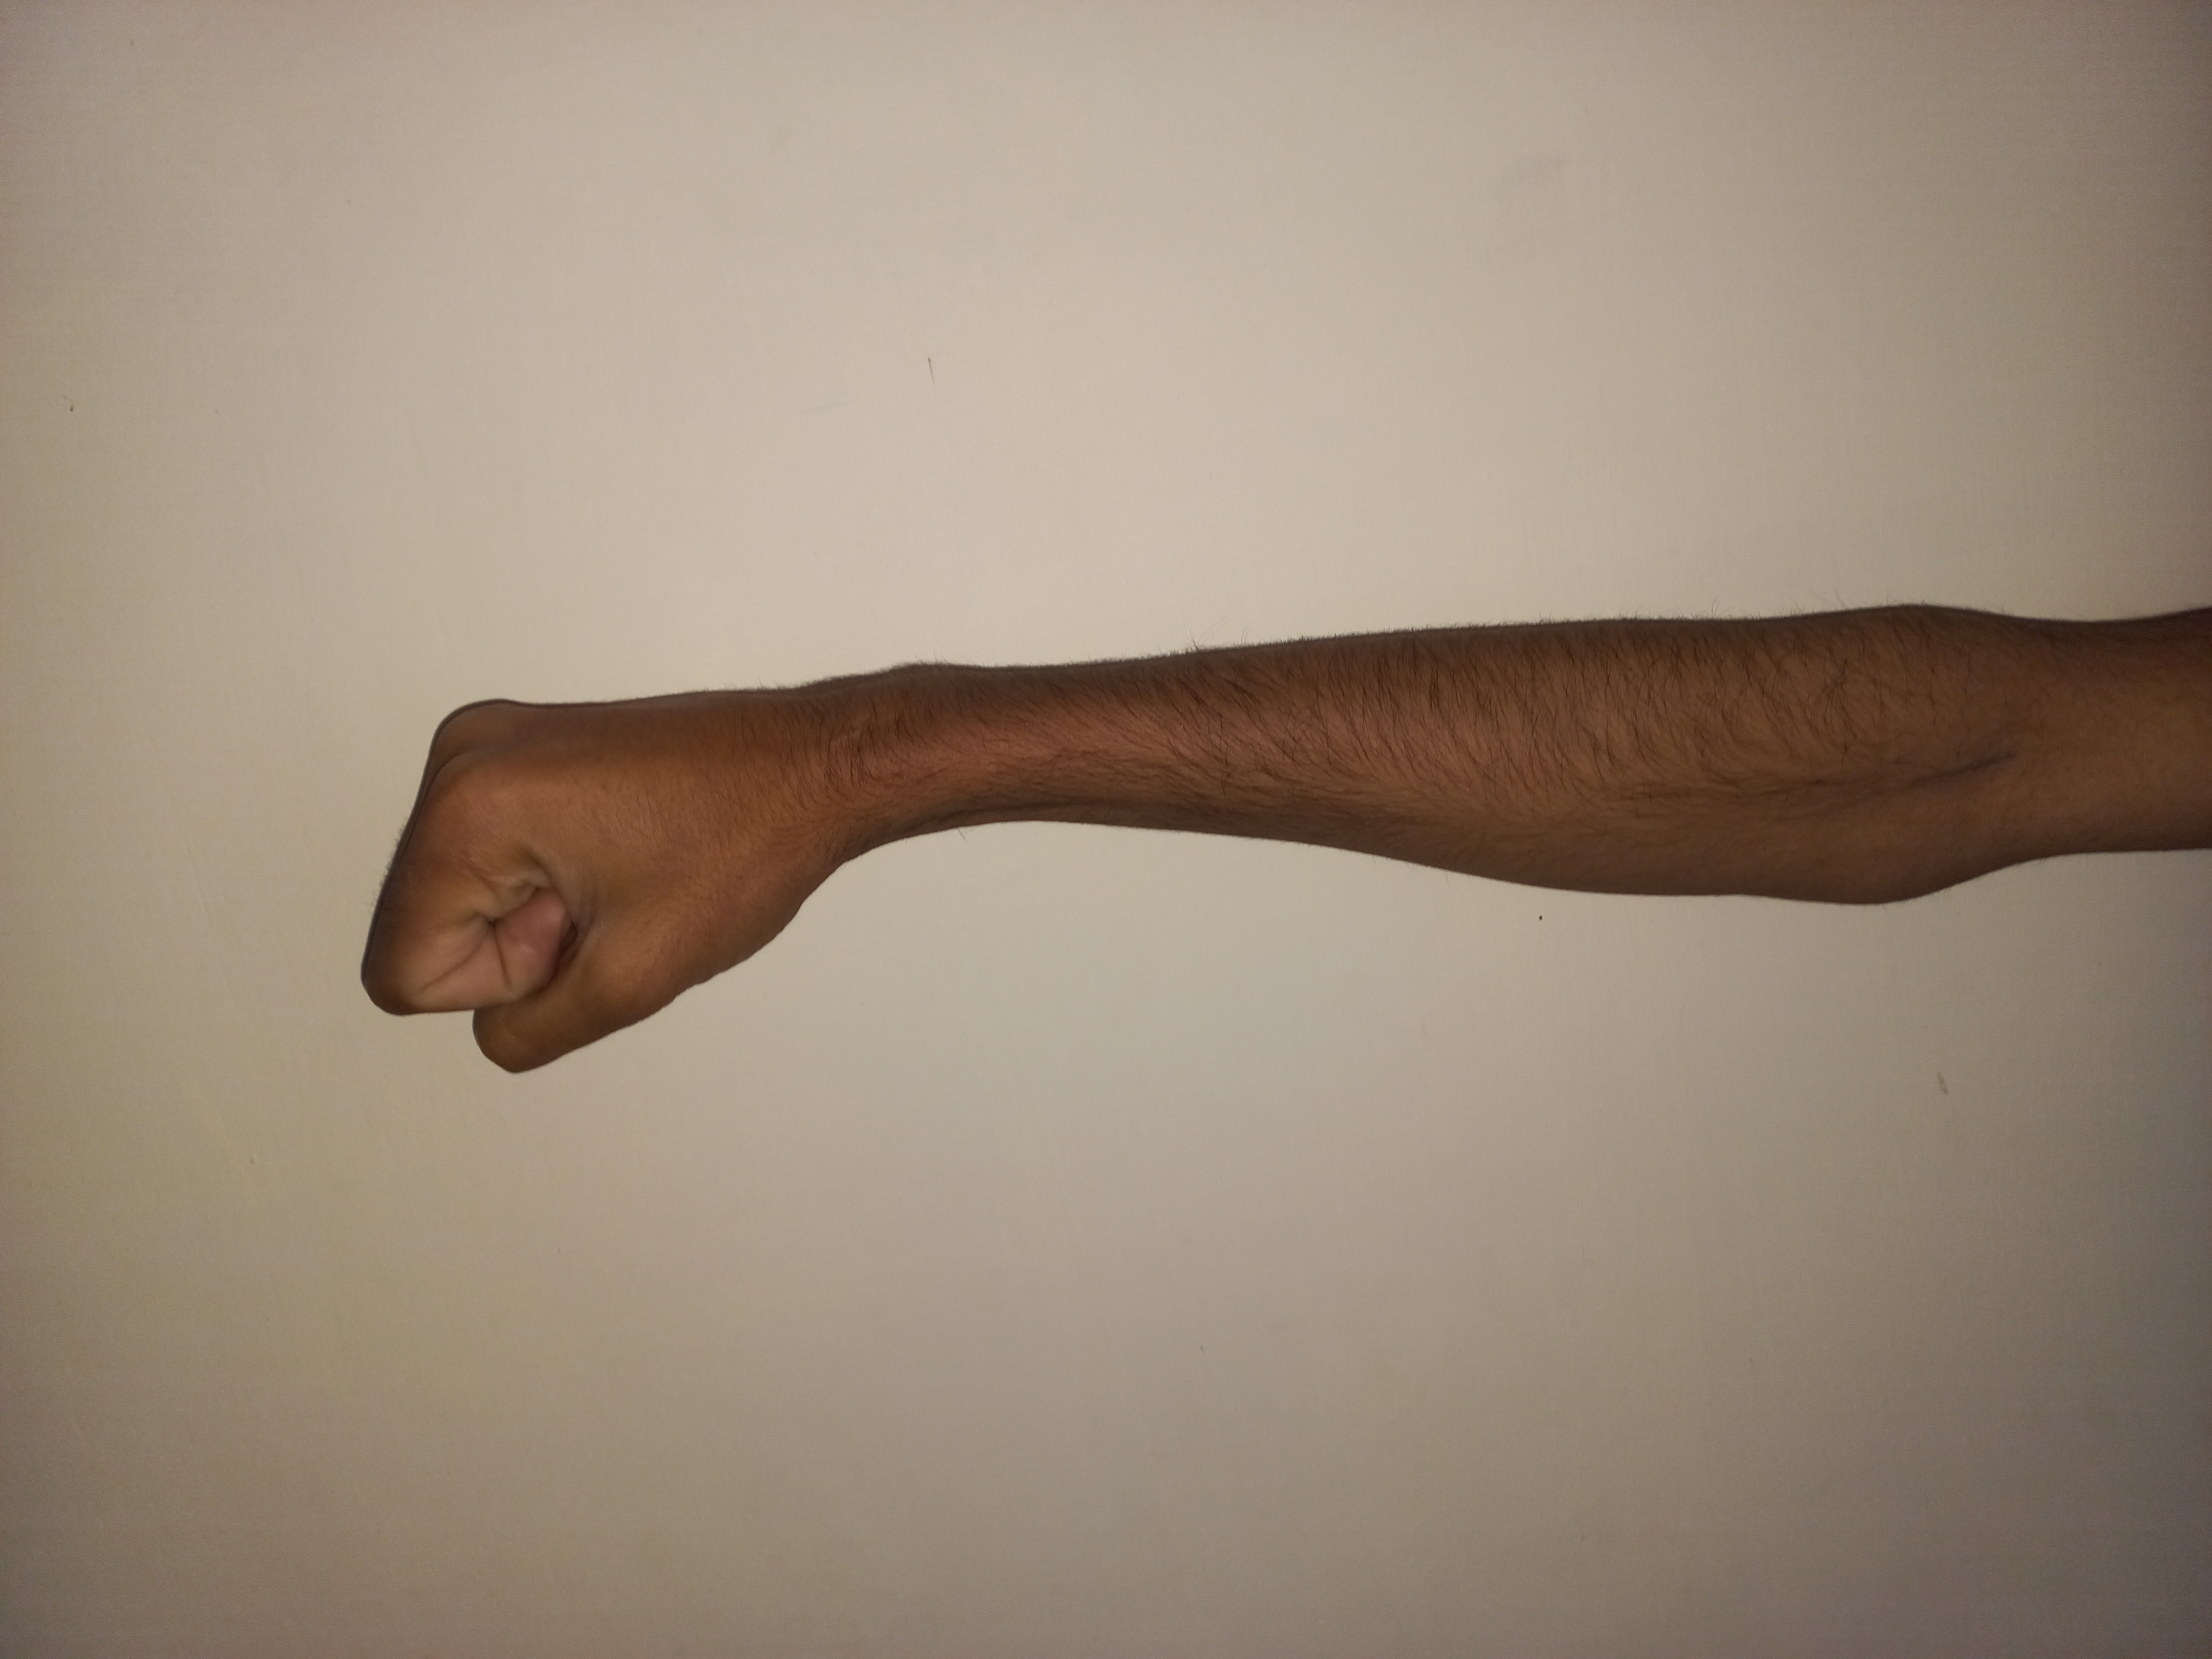vein: (1890, 734, 2040, 817)
